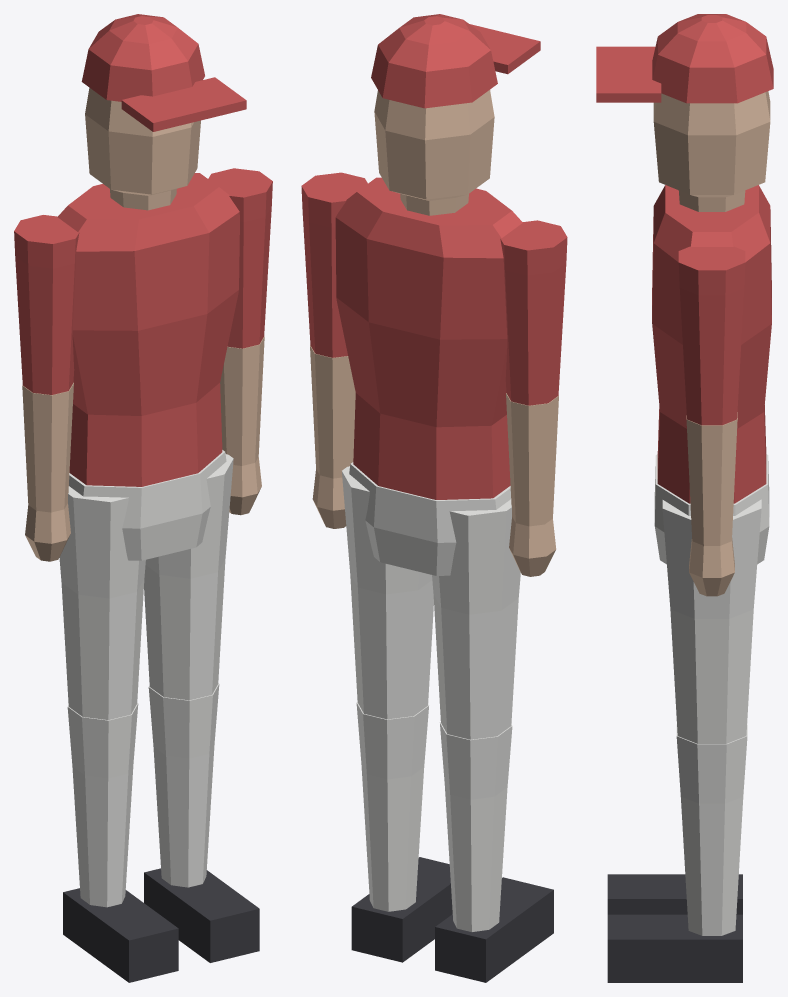
Rendered from player.glb.
3 views of the same model, side by side, from view 1: azimuth 30°, elevation 25°; view 2: azimuth 150°, elevation 25°; view 3: azimuth 270°, elevation 25° (orthographic). The views are drawn at different scales.
Parts seen in each view (by area): view 1: Torso, LegUpperL, LegUpperR, Cap, LegLowerL, LegLowerR, ArmUpperL, Head, ArmLowerL, FootL, Pelvis, FootR (+2 smaller); view 2: Torso, LegUpperL, LegUpperR, Head, LegLowerR, LegLowerL, Cap, ArmUpperL, ArmLowerL, Pelvis, FootL, ArmUpperR (+2 smaller); view 3: Torso, LegUpperR, Cap, LegLowerR, Head, ArmUpperR, FootR, ArmLowerR, FootL, Pelvis.
Part boxes in pixels (x1,y1,x2,y2): Torso: (57, 173, 239, 486); LegUpperL: (59, 486, 145, 719); LegUpperR: (144, 454, 233, 700); Cap: (81, 14, 246, 131); LegLowerL: (67, 703, 138, 907); LegLowerR: (148, 683, 219, 887); ArmUpperL: (14, 215, 79, 394); Head: (85, 87, 200, 210); ArmLowerL: (22, 382, 73, 561); FootL: (63, 888, 178, 982); Pelvis: (69, 450, 226, 560); FootR: (144, 868, 259, 962); Torso: (335, 177, 522, 499); LegUpperL: (432, 499, 520, 739); LegUpperR: (342, 466, 433, 719); Head: (374, 90, 494, 215); LegLowerR: (356, 702, 428, 911); LegLowerL: (440, 722, 512, 931); Cap: (371, 14, 540, 108); ArmUpperL: (500, 220, 567, 405); ArmLowerL: (506, 393, 558, 576); Pelvis: (349, 462, 511, 575); FootL: (435, 877, 553, 982); ArmUpperR: (301, 172, 367, 357); Torso: (652, 185, 771, 503); LegUpperR: (662, 499, 761, 743); Cap: (596, 14, 773, 103); LegLowerR: (676, 724, 747, 935); Head: (653, 91, 770, 211); ArmUpperR: (678, 246, 745, 425); FootR: (607, 914, 742, 982); ArmLowerR: (686, 412, 737, 596); FootL: (607, 874, 742, 914); Pelvis: (654, 454, 769, 564).
Bounding box in the file's own units: 0.5146 × 1.82 × 0.314.
